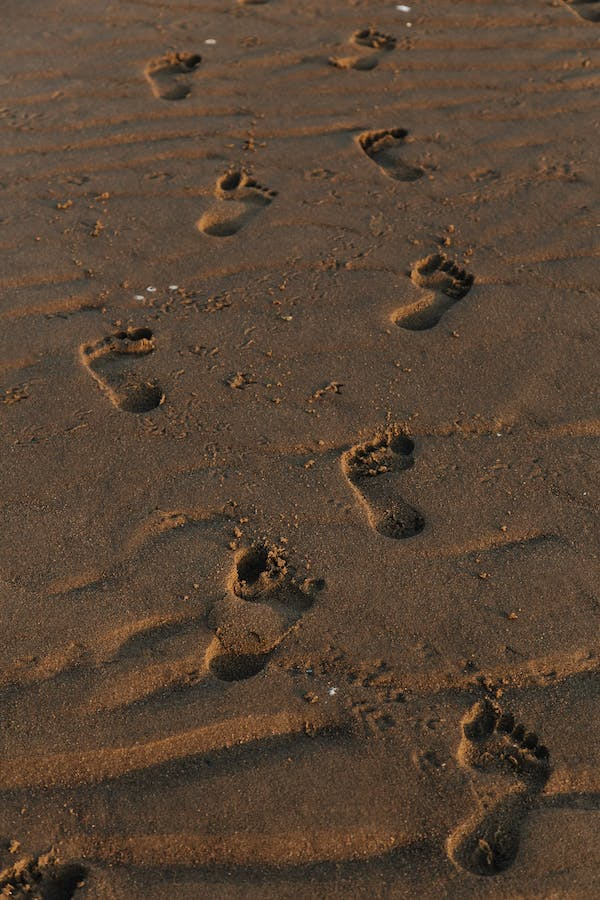human_foot_print: (58, 0, 544, 888)
